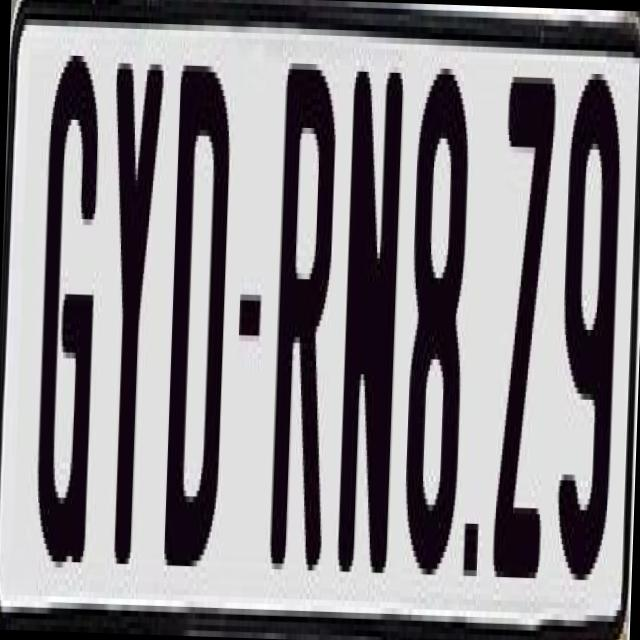8: (398, 49, 468, 586)
9: (552, 56, 630, 580)
D: (163, 59, 235, 567)
G: (31, 54, 100, 574)
N: (334, 60, 409, 568)
R: (267, 57, 345, 588)
Y: (100, 56, 171, 558)
Z: (487, 70, 555, 590)
